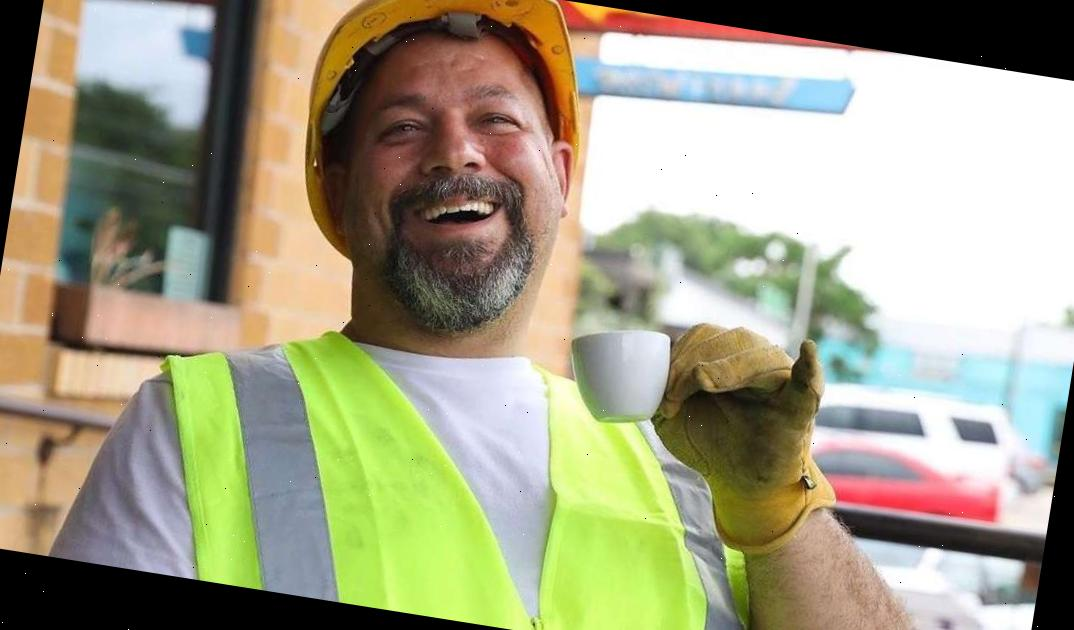helmet: (284, 0, 604, 295)
wear: (76, 302, 732, 630)
